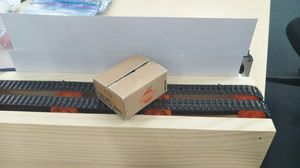box1: (91, 53, 167, 120)
